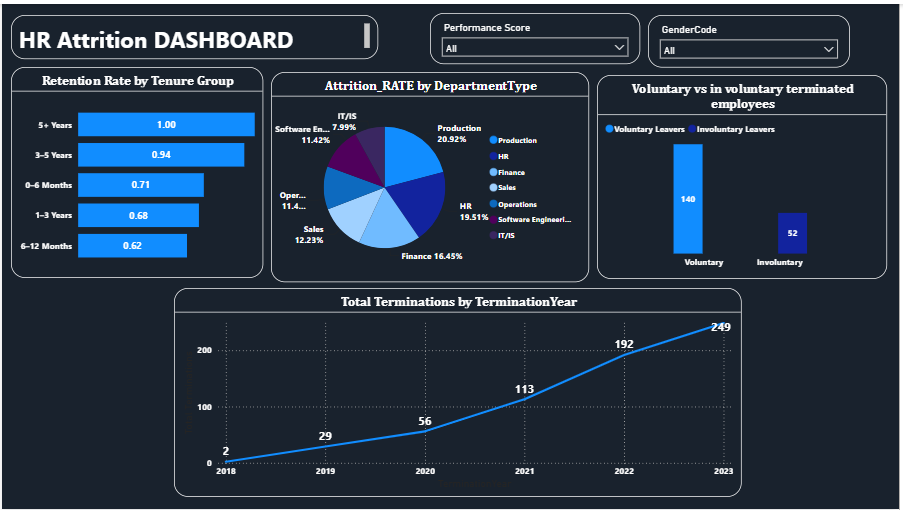

Layout of this report page (visuals, bound fields, positions):
{"tool":"powerbi","page":{"name":"HR attrition","canvas":[1280,720],"ordinal":3},"visuals":[{"type":"pieChart","fields":{"Category":["HR.DepartmentType"],"Y":["HR.Attrition_RATE"]},"box":[384.4,96.5,454.1,300.3],"z":0},{"type":"clusteredBarChart","fields":{"Category":["HR.Tenure Group"],"Y":["HR.Retention Rate"]},"box":[12.8,89.9,359.6,301.1],"z":1000},{"type":"lineClusteredColumnComboChart","title":"Voluntary vs in voluntary terminated employees","fields":{"Category":["HR.TerminationCategory"],"Y":["HR.Voluntary Leavers","HR.Involuntary Leavers"]},"box":[849.6,100.8,413.7,290.6],"z":2000},{"type":"lineChart","fields":{"Category":["HR.TerminationYear"],"Y":["HR.Total Terminations"]},"box":[246.1,405.8,810.3,298.5],"z":4000},{"type":"textbox","box":[13.1,13.1,493.5,61.5],"z":5000},{"type":"slicer","fields":{"Values":["HR.Performance Score"]},"box":[611.4,12.5,300.3,73.3],"z":5001},{"type":"slicer","fields":{"Values":["HR.GenderCode"]},"box":[922.5,16.1,287.8,75.1],"z":5002}]}

Visuals, with their boxes in screenshot pixels (x1, y1, x2, y2), scaled from the page's 1280x720 canvas onto the 903x510 screenshot:
pieChart - HR.DepartmentType x HR.Attrition_RATE: 271, 68, 592, 281
clusteredBarChart - HR.Tenure Group x HR.Retention Rate: 9, 64, 263, 277
"Voluntary vs in voluntary terminated employees" lineClusteredColumnComboChart: 599, 71, 891, 277
lineChart - HR.TerminationYear x HR.Total Terminations: 174, 287, 745, 499
textbox: 9, 9, 357, 53
slicer - HR.Performance Score: 431, 9, 643, 61
slicer - HR.GenderCode: 651, 11, 854, 65
